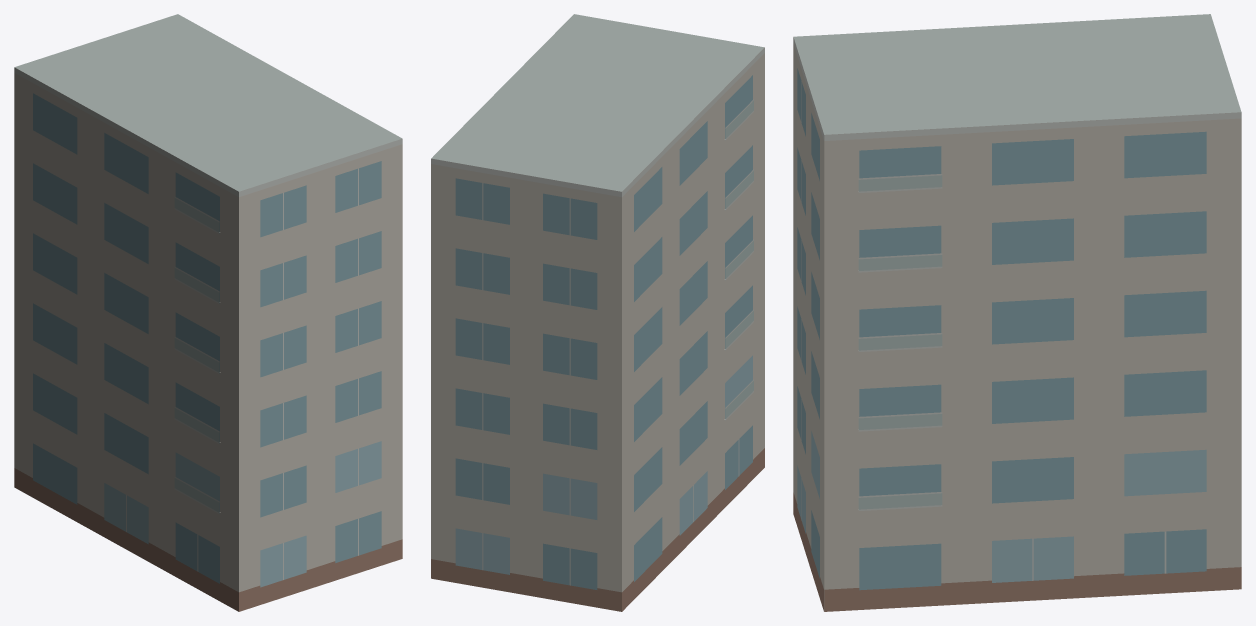
The model's file is survey-upis-32531883.glb.
3 renders of one model, left to right at view 1: azimuth 30°, elevation 25°; view 2: azimuth 150°, elevation 25°; view 3: azimuth 270°, elevation 25°, orthographic. The views are drawn at different scales.
Parts seen in each view (by area): view 1: survey-upis-32531883.tmp; view 2: survey-upis-32531883.tmp; view 3: survey-upis-32531883.tmp.
Boxes of the visible parts, bbox=[...] form: survey-upis-32531883.tmp: bbox=[14, 14, 402, 611]; survey-upis-32531883.tmp: bbox=[431, 14, 764, 611]; survey-upis-32531883.tmp: bbox=[793, 14, 1241, 611].
Size of the model in its own units: 10.12 by 18.6 by 15.85.
